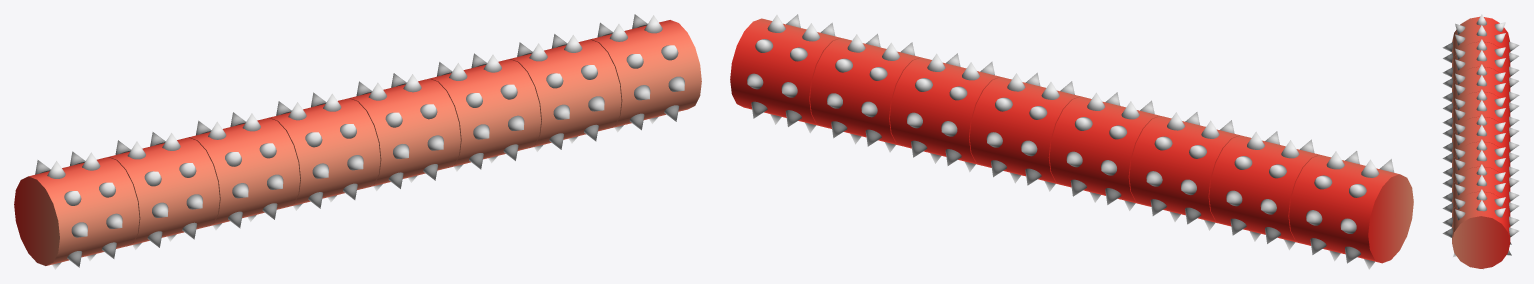
File: Rolling_spike.fbx
3 renders of one model, left to right at view 1: azimuth 30°, elevation 25°; view 2: azimuth 150°, elevation 25°; view 3: azimuth 270°, elevation 25°, orthographic. The views are drawn at different scales.
Parts seen in each view (by area): view 1: Cylinder; view 2: Cylinder; view 3: Cylinder.
Boxes of the visible parts, box(x1,y1,x2,y2) form: Cylinder: box(14, 14, 701, 269); Cylinder: box(730, 14, 1413, 269); Cylinder: box(1442, 14, 1519, 269).
Bounding box in the file's own units: 2672 × 439 × 437.
